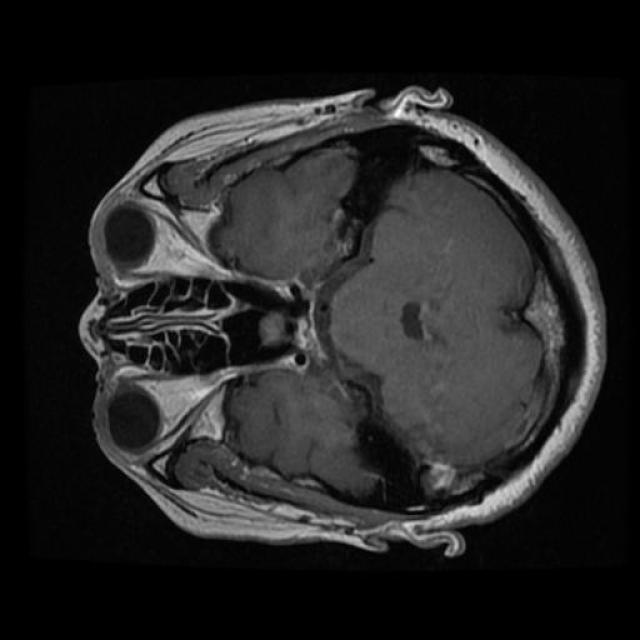Pituitary: (259, 268, 346, 395)
